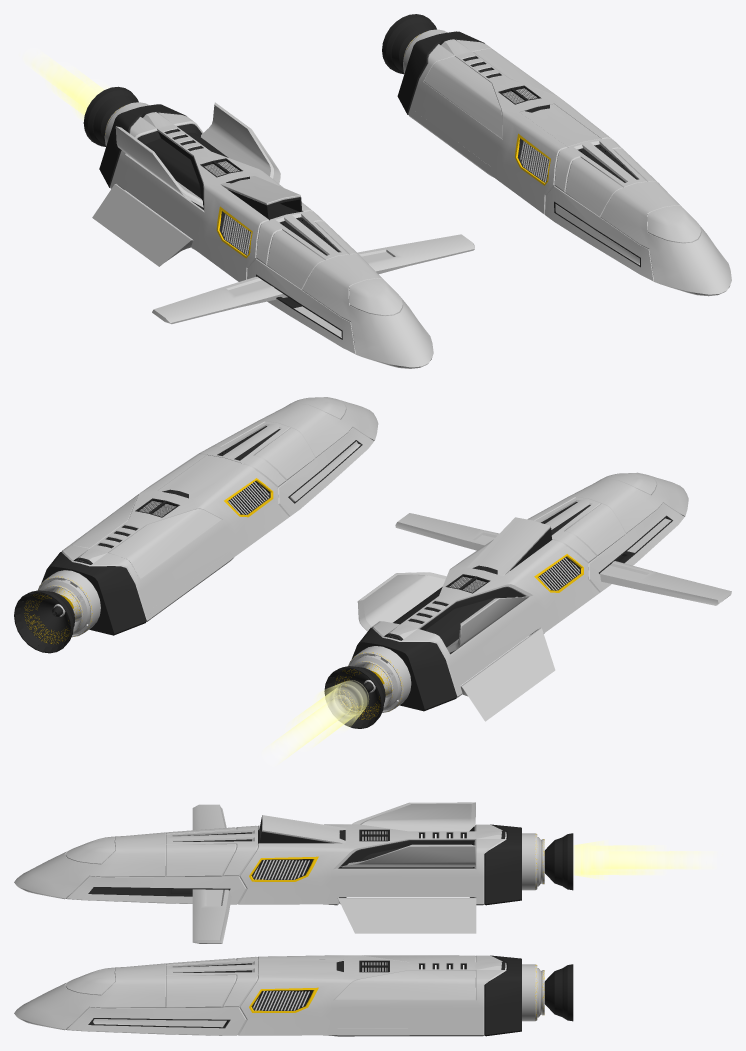
File: hasta_missile.glb
3 views of the same model, one above another, from view 1: azimuth 30°, elevation 25°; view 2: azimuth 150°, elevation 25°; view 3: azimuth 270°, elevation 25° (orthographic). The views are drawn at different scales.
Visible parts, largest first — view 1: Hasta_Missile_Open, Hasta_Missile_Close; view 2: Hasta_Missile_Open, Hasta_Missile_Close; view 3: Hasta_Missile_Open, Hasta_Missile_Close.
Part boxes in pixels (<box>): Hasta_Missile_Open: <box>30,52,474,368</box>; Hasta_Missile_Close: <box>382,14,731,296</box>; Hasta_Missile_Open: <box>269,472,731,761</box>; Hasta_Missile_Close: <box>14,397,378,653</box>; Hasta_Missile_Open: <box>14,802,713,943</box>; Hasta_Missile_Close: <box>14,955,573,1036</box>.
Size of the model in its own units: 1072 by 181 by 1466.
Materials: 6 (1 with a texture image).
